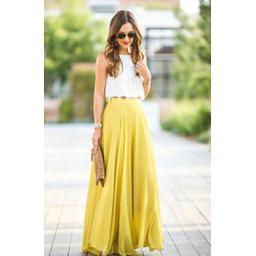Tshirt: (104, 50, 146, 102)
skirt: (84, 98, 162, 256)
